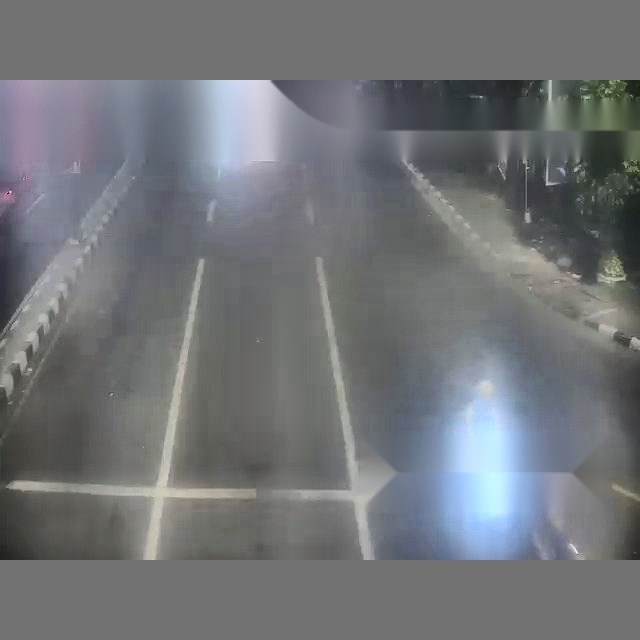Bis: (186, 75, 639, 556)
